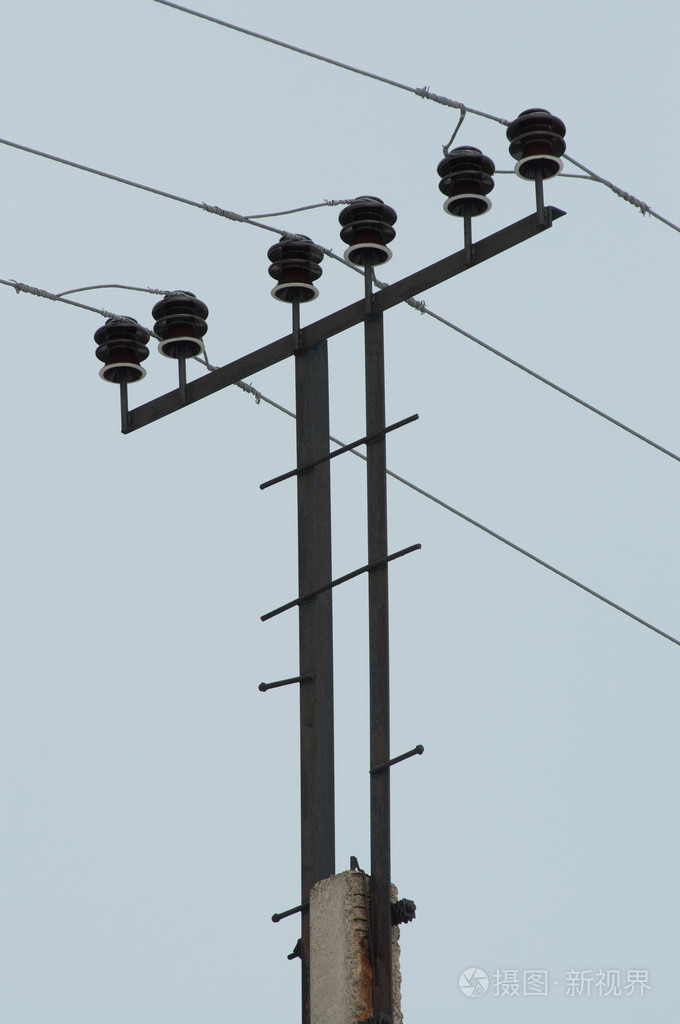insulator: (499, 112, 573, 186), (429, 145, 498, 222), (332, 199, 402, 264), (264, 237, 328, 305), (146, 294, 210, 360), (91, 318, 150, 388)
